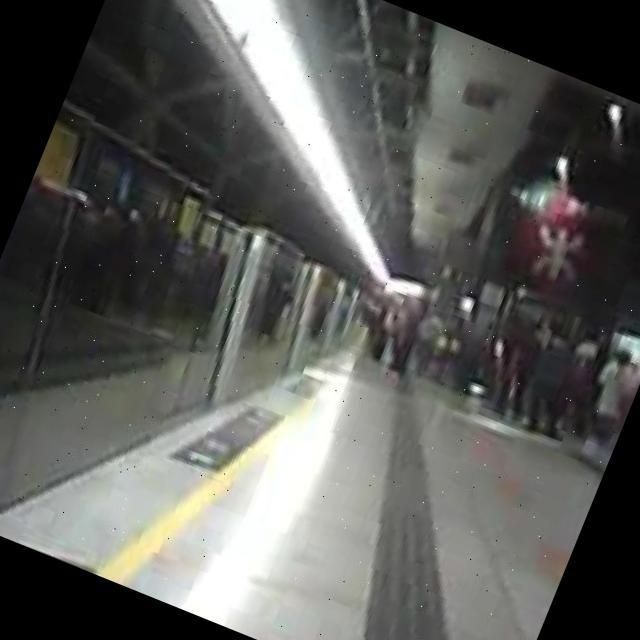person: (566, 345, 640, 469), (537, 325, 607, 444), (513, 330, 587, 437), (390, 302, 450, 398)
